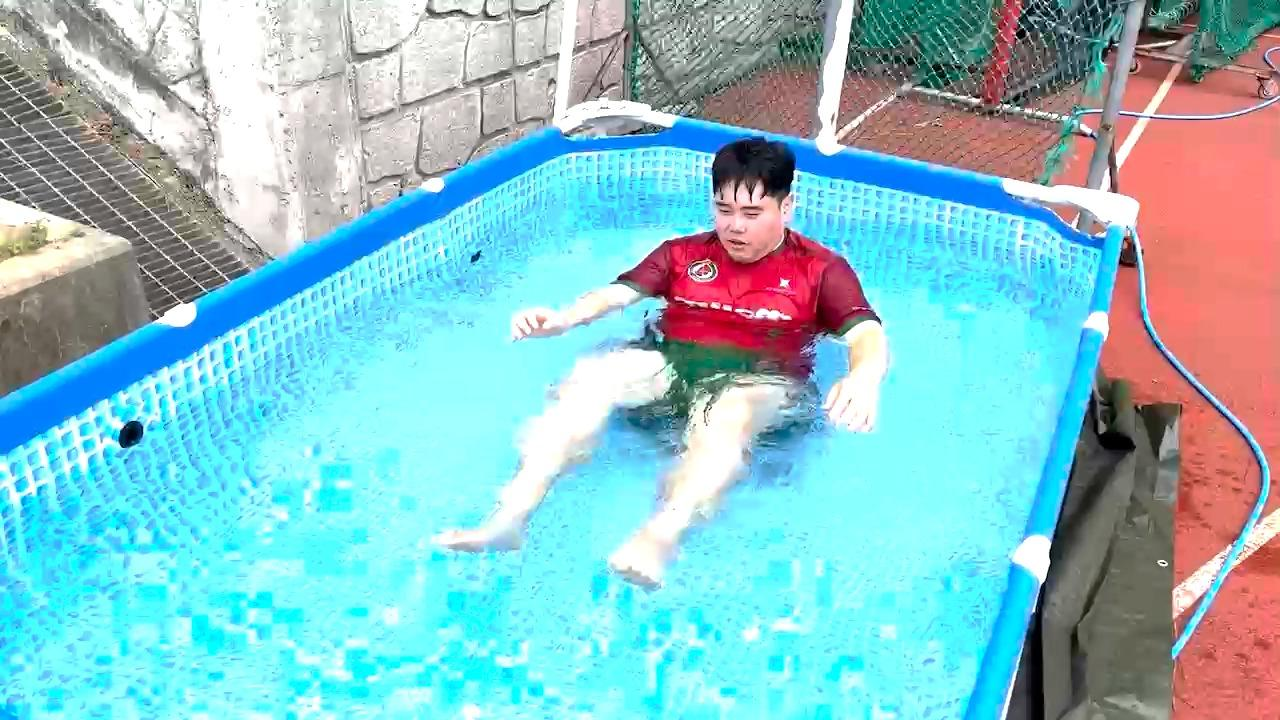Swimming: (448, 60, 913, 617)
